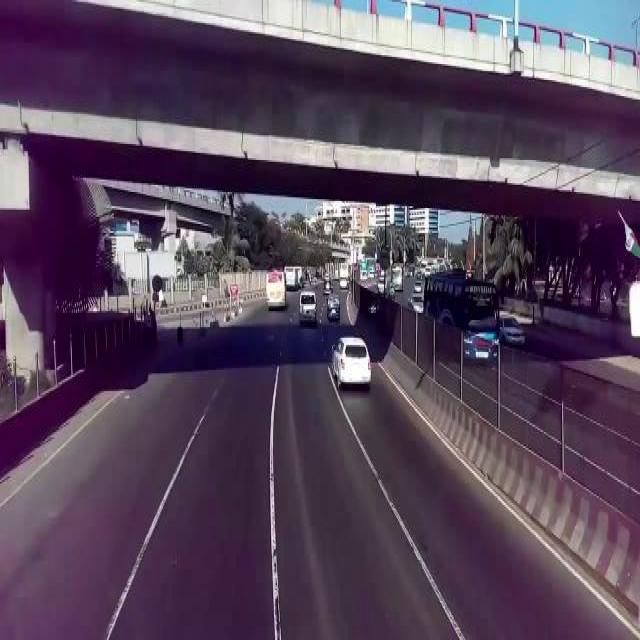19: (298, 288, 316, 327)
5: (329, 332, 373, 394)
9: (324, 292, 340, 324)
Truck: (422, 263, 503, 366), (263, 267, 287, 309)
